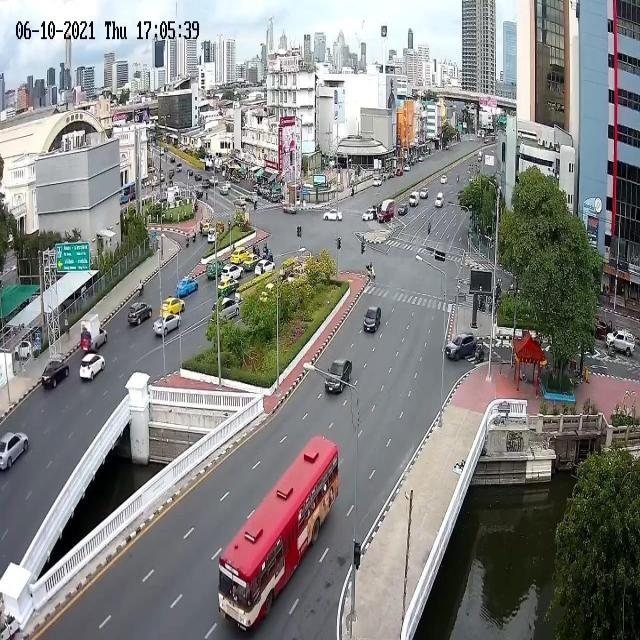Bus: (216, 434, 340, 634)
Car: (0, 431, 29, 471), (324, 358, 352, 395), (445, 334, 477, 362), (41, 359, 70, 389), (79, 353, 106, 381), (213, 297, 240, 323), (152, 314, 180, 336), (128, 302, 152, 327), (160, 297, 186, 317), (176, 277, 199, 299), (220, 264, 244, 284), (363, 307, 381, 333), (217, 278, 240, 298), (206, 259, 228, 279), (14, 340, 35, 360), (242, 253, 262, 273), (254, 258, 275, 276), (230, 248, 250, 265), (323, 208, 343, 222), (362, 208, 377, 222), (207, 228, 217, 244), (397, 202, 408, 216), (283, 203, 297, 214), (202, 222, 213, 235), (409, 192, 419, 206), (435, 192, 444, 207), (236, 196, 246, 207), (249, 191, 258, 203), (420, 188, 428, 200), (373, 177, 382, 187), (220, 186, 228, 196), (440, 175, 448, 184), (194, 174, 202, 182), (396, 168, 403, 177), (404, 163, 410, 173), (418, 154, 424, 162), (187, 169, 193, 176)
Cycle: (365, 265, 376, 280), (605, 346, 618, 358), (476, 298, 485, 313), (137, 283, 144, 297), (185, 238, 190, 248), (428, 226, 431, 235)
Truck: (80, 312, 108, 352), (605, 329, 634, 357), (378, 199, 395, 223)
